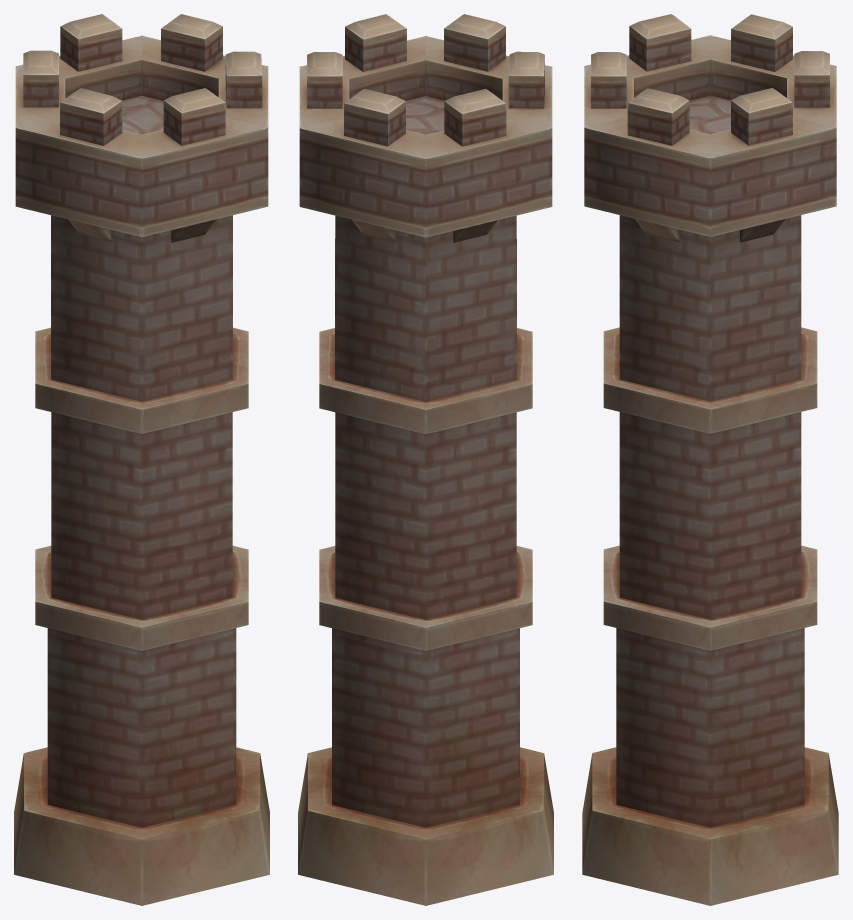
Rendered from castleWalls_tower_2.FBX.
3 views of the same model, side by side, from view 1: azimuth 30°, elevation 25°; view 2: azimuth 150°, elevation 25°; view 3: azimuth 270°, elevation 25° (orthographic).
Parts seen in each view (by area): view 1: castleWalls_tower_2; view 2: castleWalls_tower_2; view 3: castleWalls_tower_2.
Boxes of the visible parts, x1,y1,x2,y2 form: castleWalls_tower_2: (14, 14, 269, 905); castleWalls_tower_2: (298, 14, 553, 905); castleWalls_tower_2: (582, 14, 838, 905).
Size of the model in its own units: 255 by 747 by 221.
Materials: 1 (1 with a texture image).
